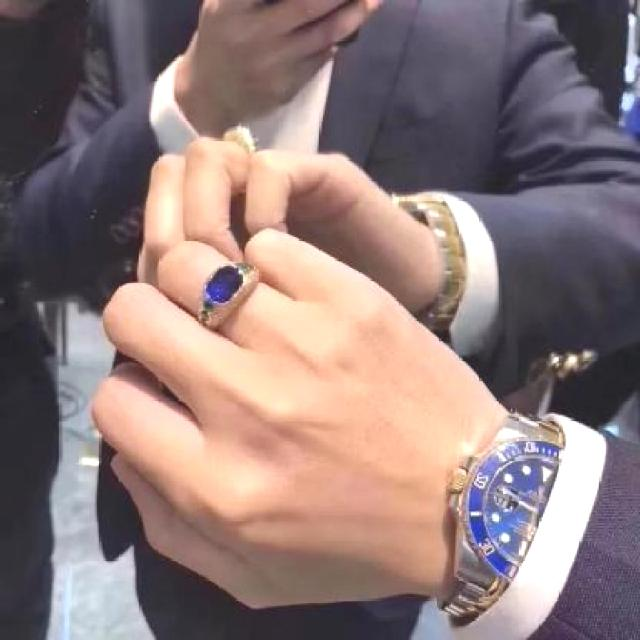hand_noglove: (90, 230, 516, 616), (127, 138, 439, 294), (182, 0, 390, 125)
